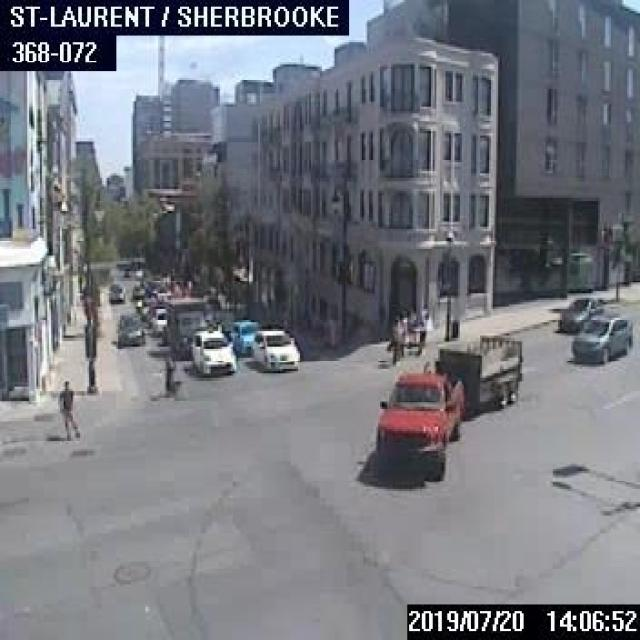pedestrian: (54, 378, 82, 438), (387, 318, 400, 362), (163, 355, 176, 394)
vehicle: (371, 331, 522, 485), (570, 311, 631, 362), (165, 297, 207, 357), (190, 324, 236, 372), (249, 327, 298, 372), (556, 296, 602, 331), (229, 318, 260, 354), (117, 322, 143, 343), (150, 307, 166, 332), (108, 282, 124, 302)
